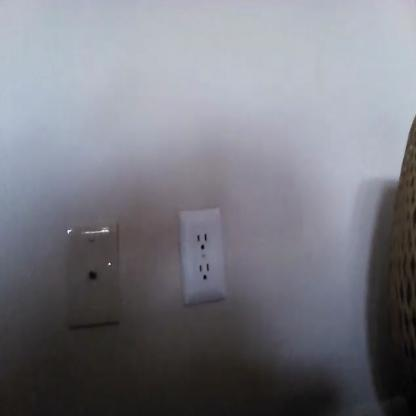OUTLET: (176, 207, 224, 299)
